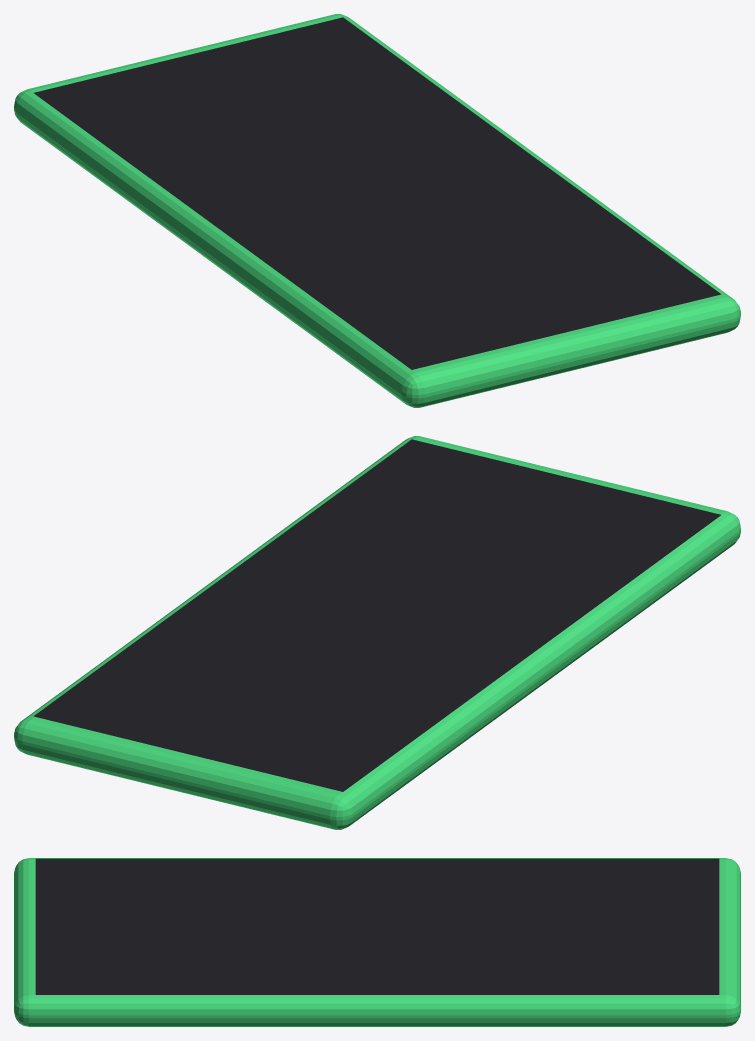
The model's file is oppo-f-model-339-flagship-2025.glb.
3 views of the same model, one above another, from view 1: azimuth 30°, elevation 25°; view 2: azimuth 150°, elevation 25°; view 3: azimuth 270°, elevation 25° (orthographic). The views are drawn at different scales.
Visible parts, largest first — view 1: Phone_Screen, Phone_Body; view 2: Phone_Screen, Phone_Body; view 3: Phone_Screen, Phone_Body.
Part boxes in pixels (box(x1,y1,x2,y2)): Phone_Screen: box(34, 17, 721, 369); Phone_Body: box(14, 14, 740, 407); Phone_Screen: box(33, 439, 720, 791); Phone_Body: box(14, 436, 740, 829); Phone_Screen: box(35, 858, 719, 994); Phone_Body: box(14, 858, 740, 1026).
Size of the model in its own units: 0.0763 by 0.0074 by 0.158.
